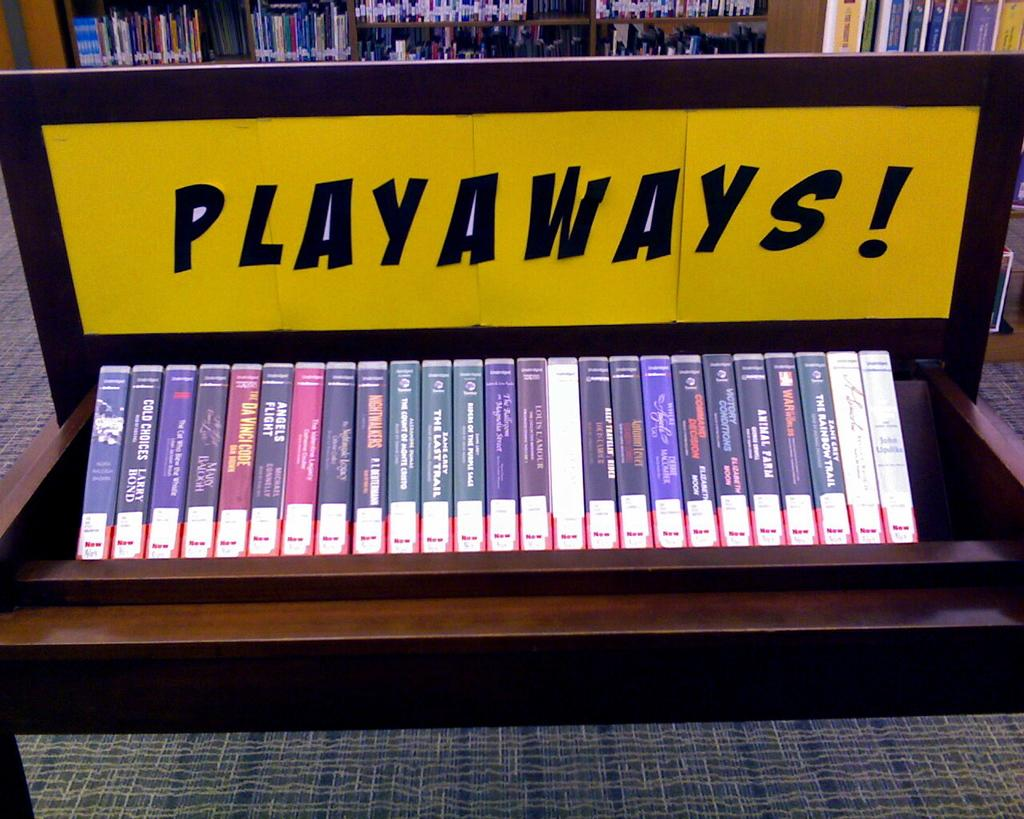Book: (39, 329, 1024, 610), (76, 0, 351, 66), (832, 0, 1023, 54), (355, 23, 588, 58), (599, 23, 768, 53), (348, 0, 588, 18), (601, 0, 753, 18)
